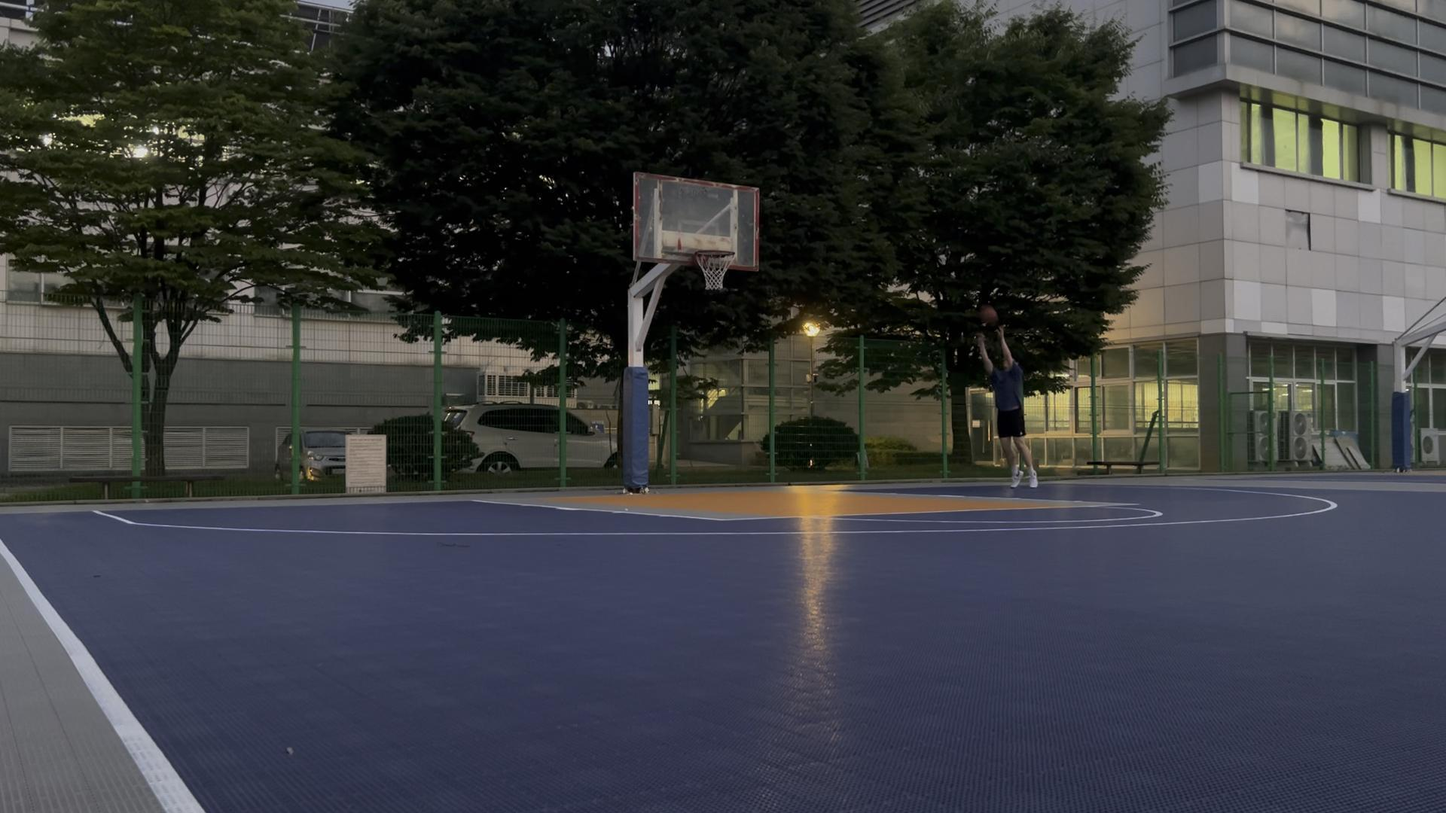ball: (979, 305, 999, 326)
human: (975, 325, 1039, 490)
rim: (694, 249, 736, 291)
